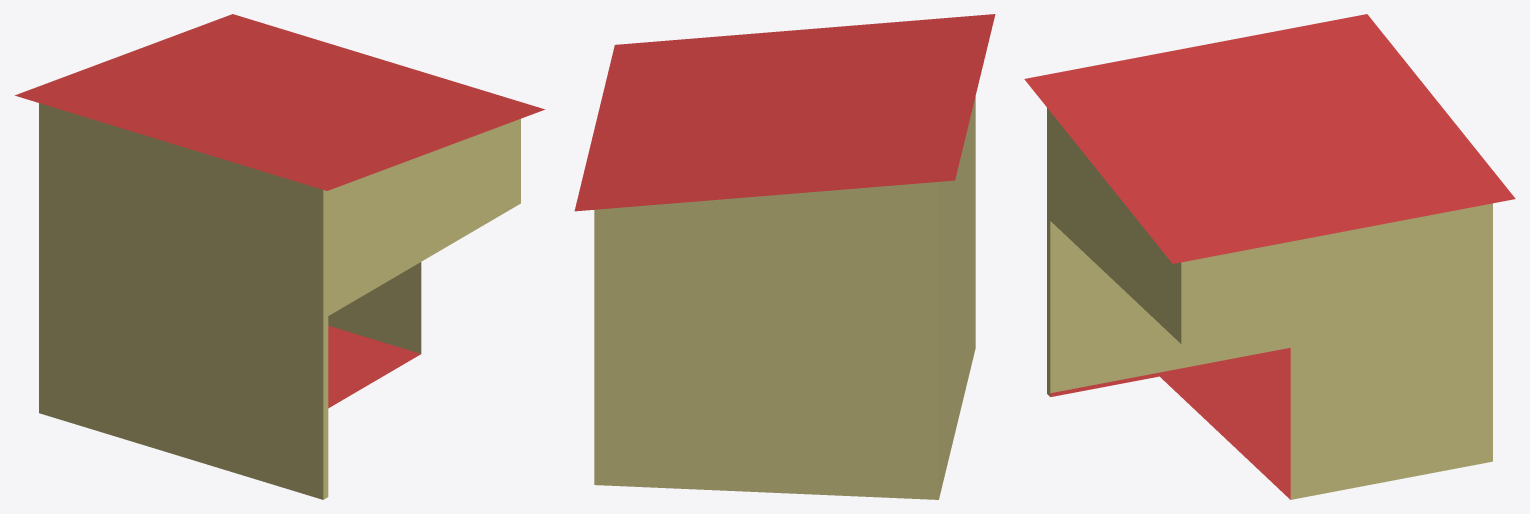
The picture shows the model from 3 angles, left to right: view 1: azimuth 30°, elevation 25°; view 2: azimuth 150°, elevation 25°; view 3: azimuth 270°, elevation 25°; orthographic projection. The views are drawn at different scales.
Bounding box in the file's own units: 14.06 × 14.24 × 9.95.
